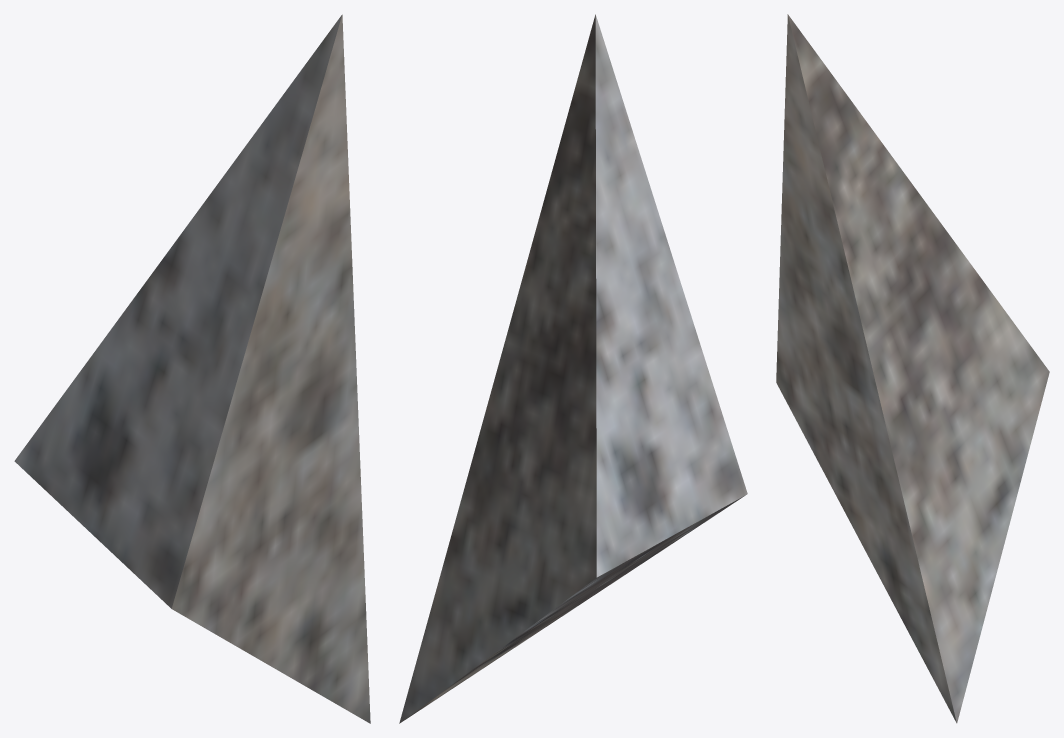
File: Asteroid_Large_001_02_005_03_012.fbx
3 renders of one model, left to right at view 1: azimuth 30°, elevation 25°; view 2: azimuth 150°, elevation 25°; view 3: azimuth 270°, elevation 25°, orthographic. The views are drawn at different scales.
Visible parts, largest first — view 1: Asteroid_Large_001_02_005_03_012; view 2: Asteroid_Large_001_02_005_03_012; view 3: Asteroid_Large_001_02_005_03_012.
Part boxes in pixels (x1,y1,x2,y2): Asteroid_Large_001_02_005_03_012: (14,14,370,723); Asteroid_Large_001_02_005_03_012: (399,14,747,723); Asteroid_Large_001_02_005_03_012: (776,14,1049,723).
Bounding box in the file's own units: 1.24 × 3.12 × 1.18.
